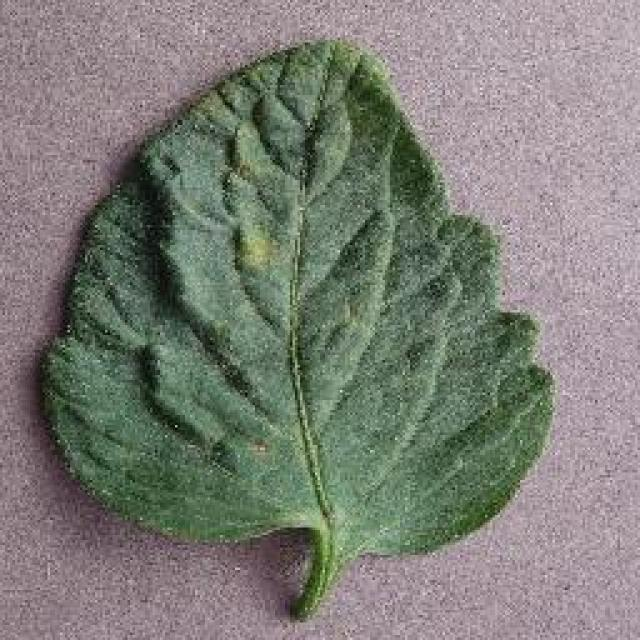Tomato___Target_Spot: (42, 40, 550, 618)
